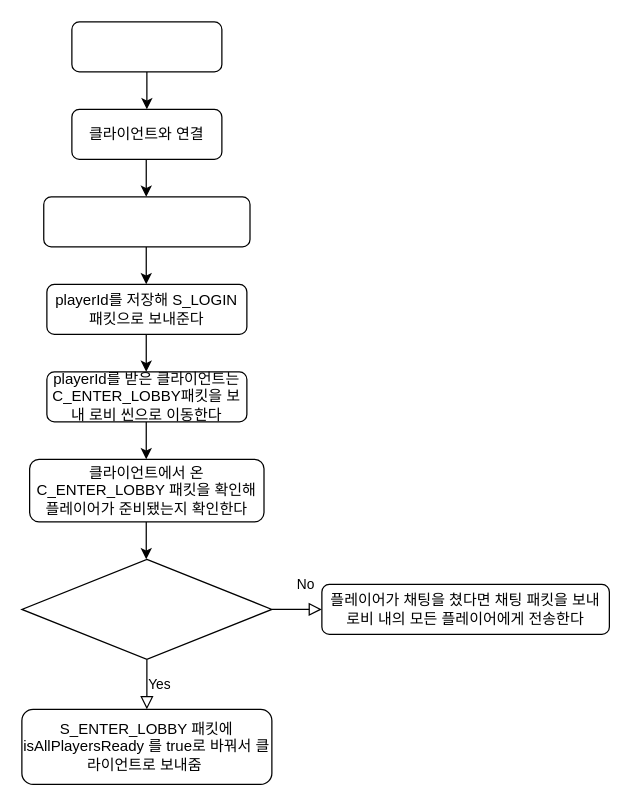
This 631x806 diagram has some shape labels left out. The centre of each missing label's shape, as x and y in pixels:
모든 플레이어가 준비됐는가?: (146,608)
서버 실행: (146,46)
클라이언트에서 온 C_LOGIN 패킷을 받아 설정된 닉네임을 저장한다: (146,221)
